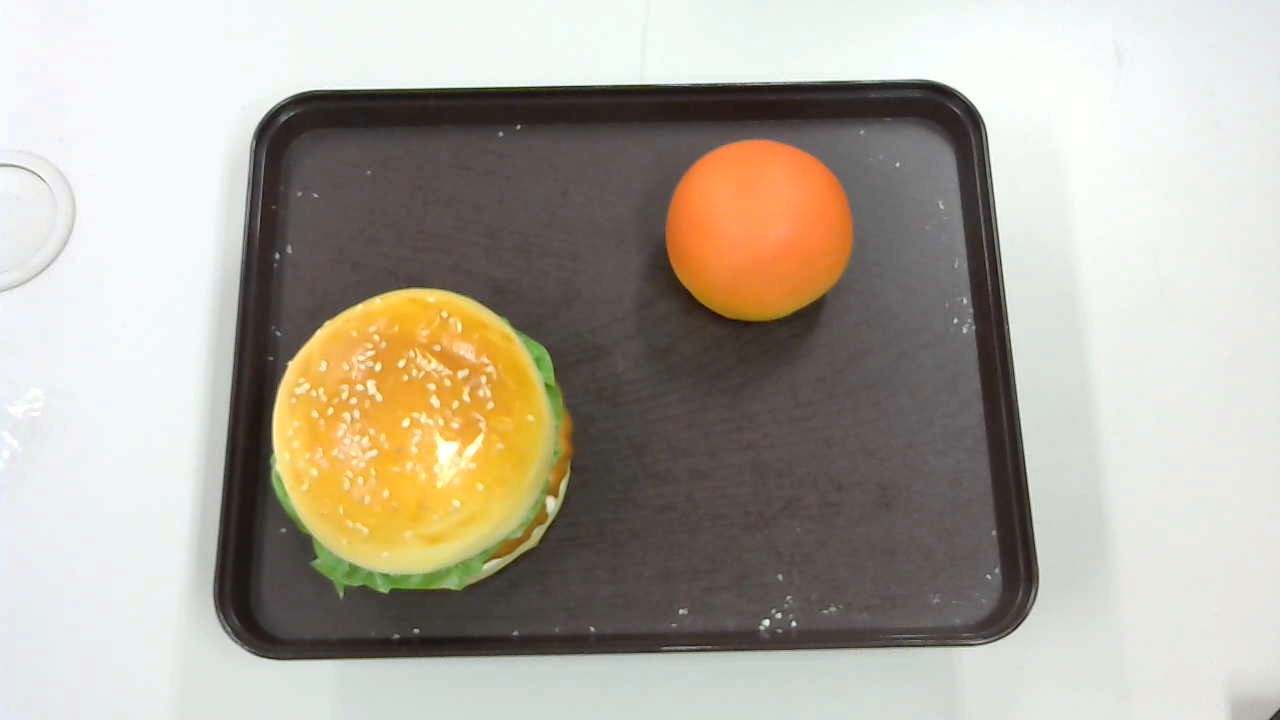bun: (664, 139, 854, 319)
hamburger: (269, 287, 571, 600)
